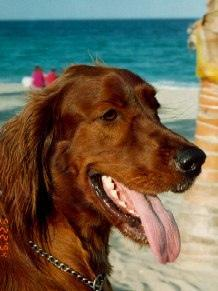Irish_setter: (0, 63, 207, 290)
